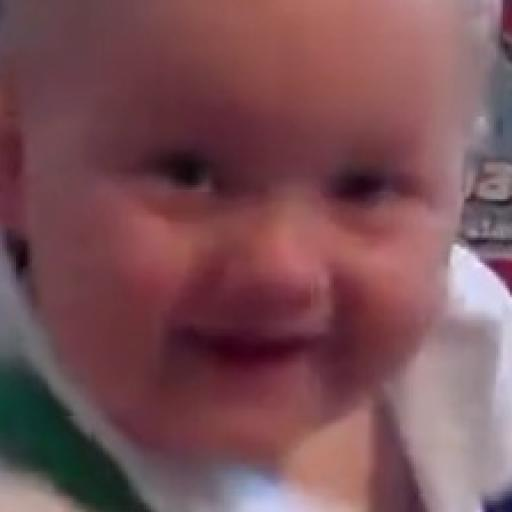Autism: (6, 10, 512, 486)
